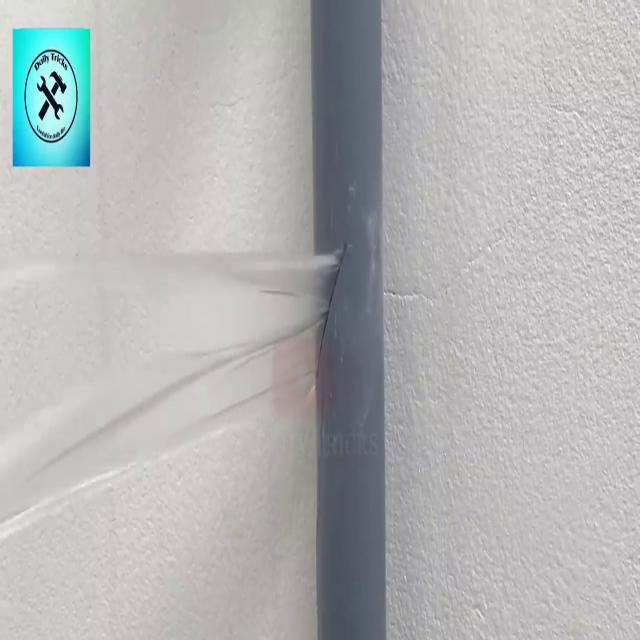leak: (0, 241, 347, 555)
